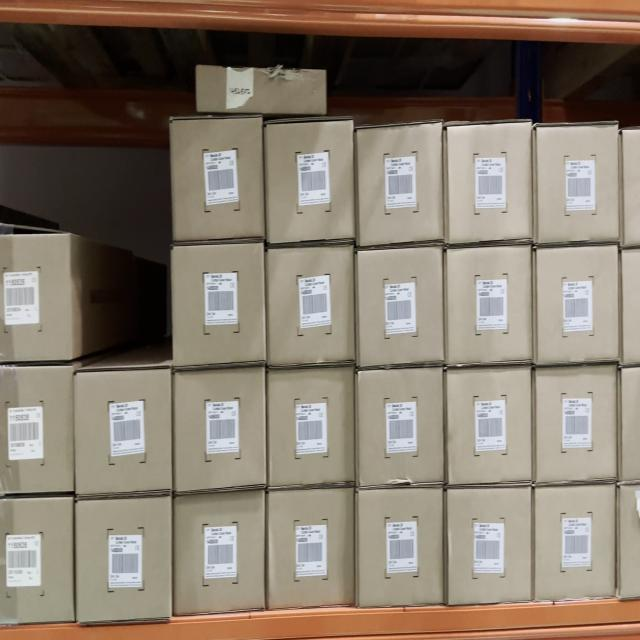box: (76, 503, 171, 617), (76, 376, 170, 491), (173, 247, 264, 364), (171, 124, 262, 237), (177, 373, 264, 485), (449, 367, 532, 482), (178, 497, 263, 609), (359, 130, 441, 246), (270, 124, 352, 239), (357, 491, 442, 601), (361, 251, 442, 365), (270, 373, 354, 482), (359, 373, 444, 479), (270, 251, 354, 358), (449, 250, 532, 358), (539, 366, 617, 480), (272, 496, 351, 608), (450, 130, 531, 238), (538, 132, 620, 238), (450, 490, 530, 596), (535, 490, 615, 595), (539, 254, 616, 359), (200, 69, 328, 112)
